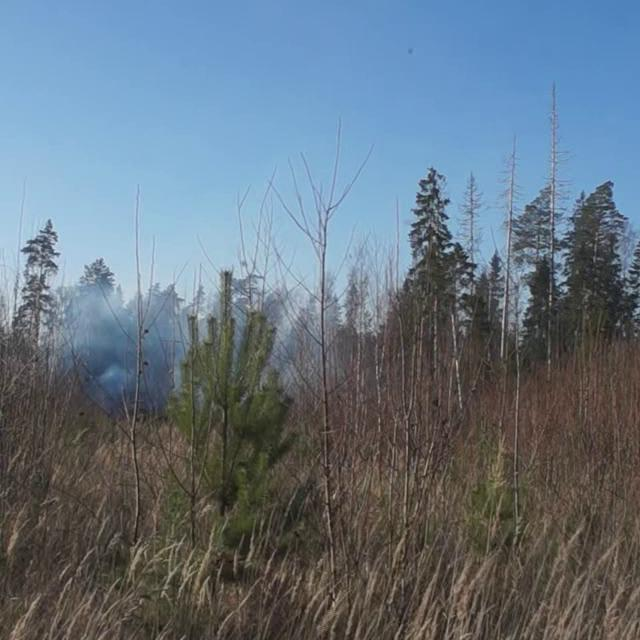Smoke: (42, 272, 345, 413)
